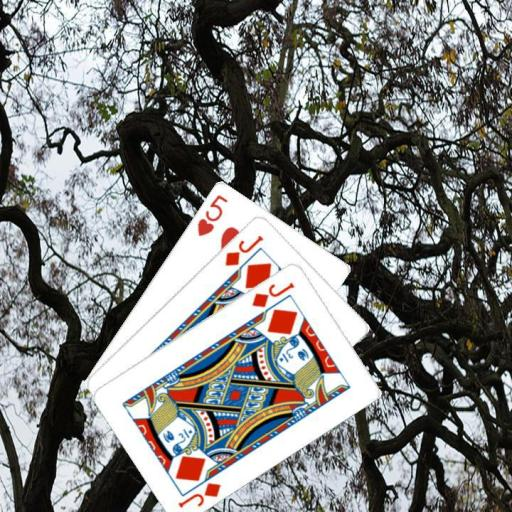5H: (193, 191, 230, 238)
JD: (221, 231, 265, 267), (175, 478, 223, 510), (248, 278, 296, 309)
